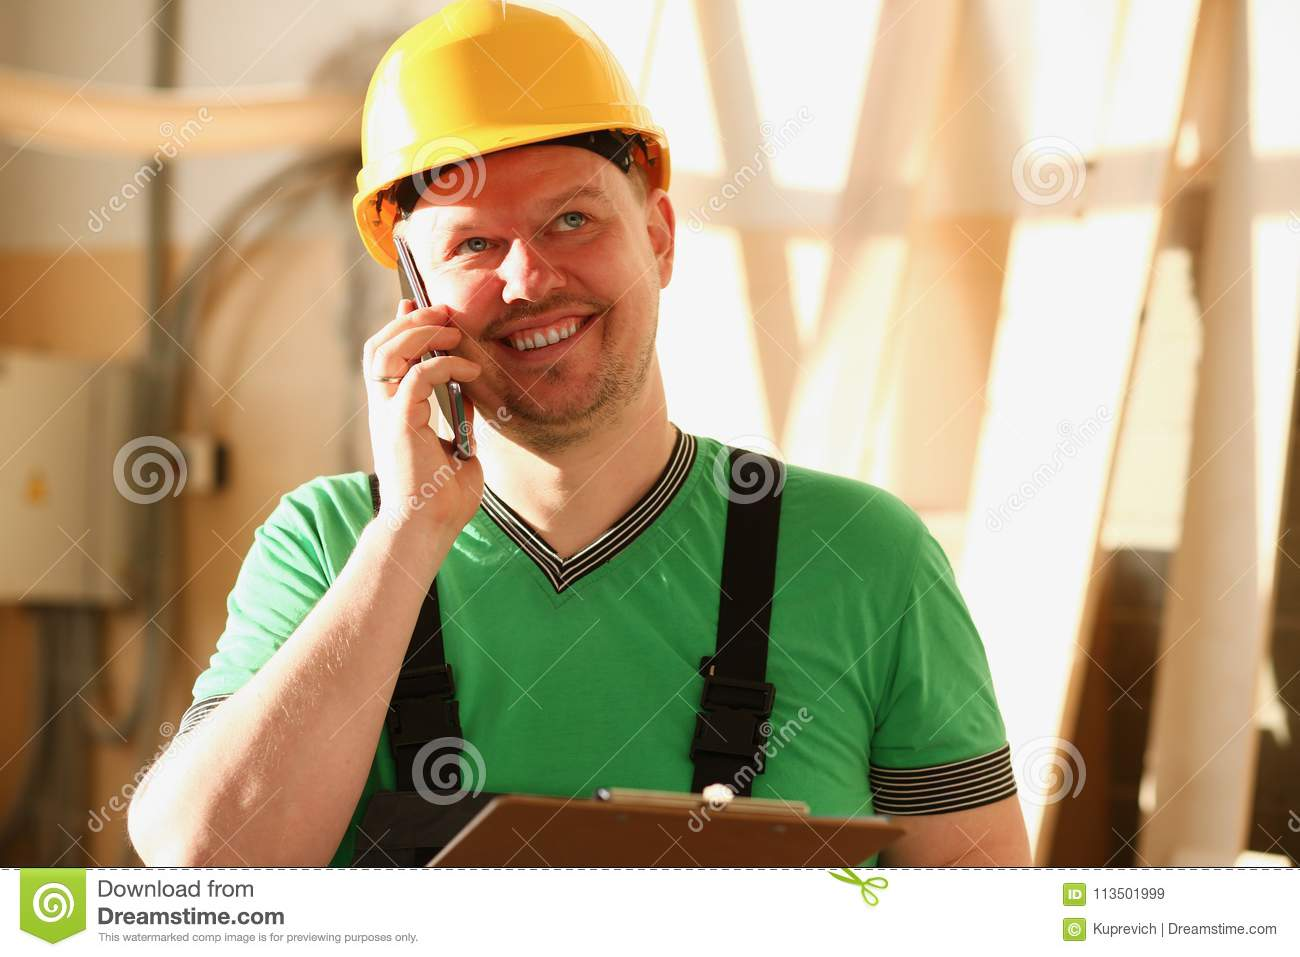phone: (394, 234, 472, 466)
talk: (359, 187, 630, 534)
